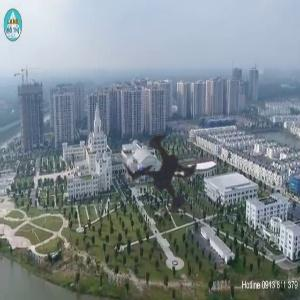drone: (46, 63, 275, 292)
